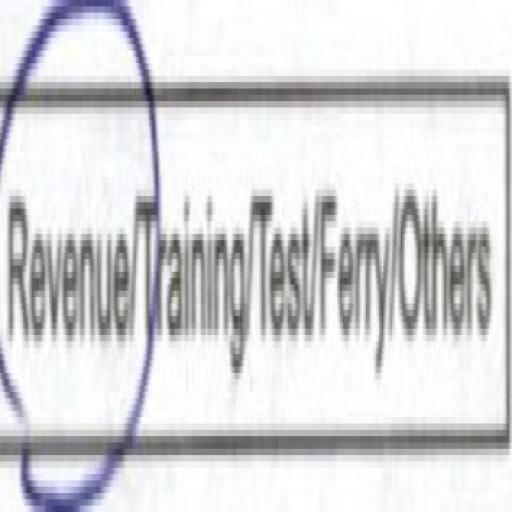check: (0, 0, 143, 511)
